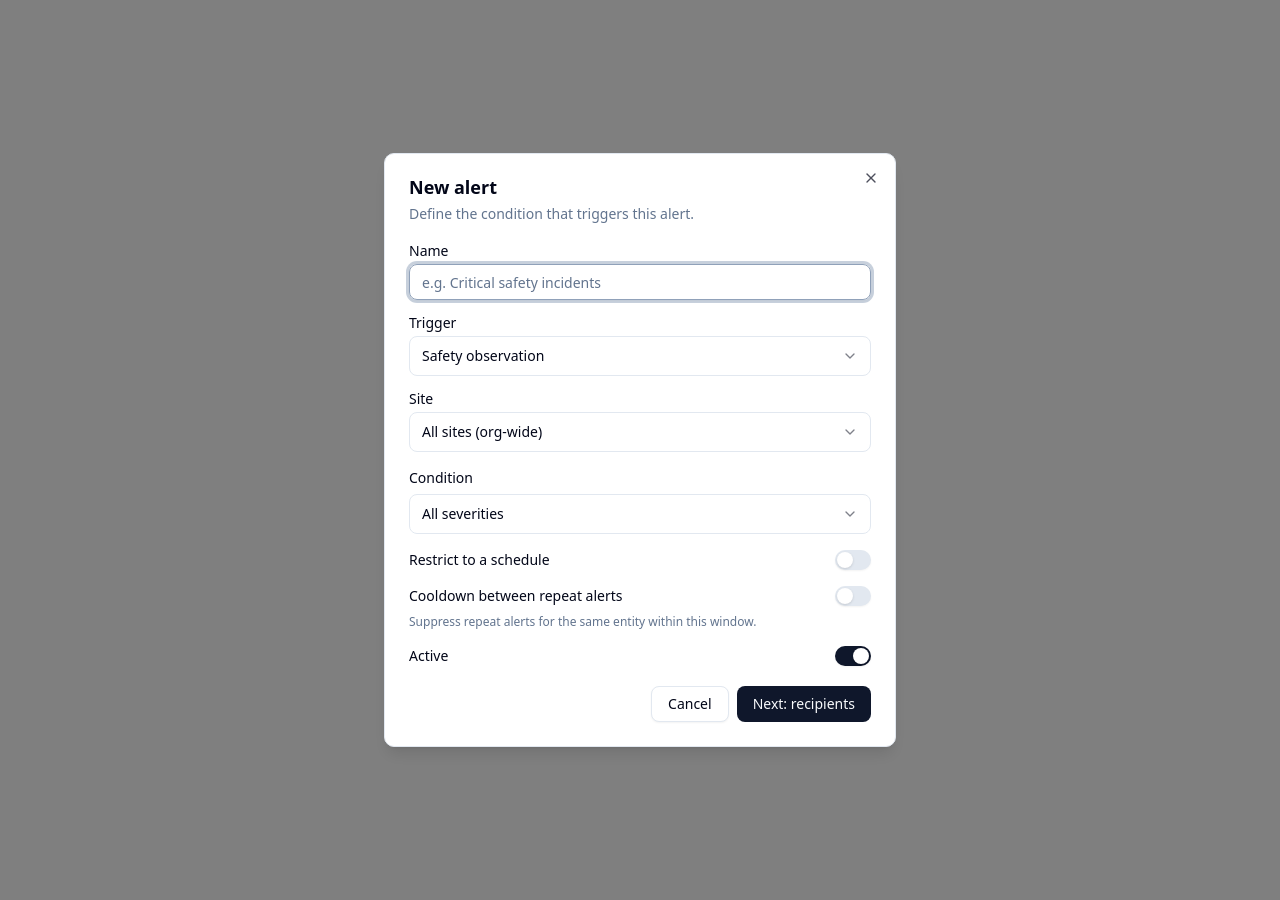
Test: PolicyDialog - create mode step flow › blocks advancing when a schedule window has no days selected
The image size is (1280, 900).
Type "Scheduled alert" into the field labelled "Name" at coordinates (640, 282), box [409,264,871,300]
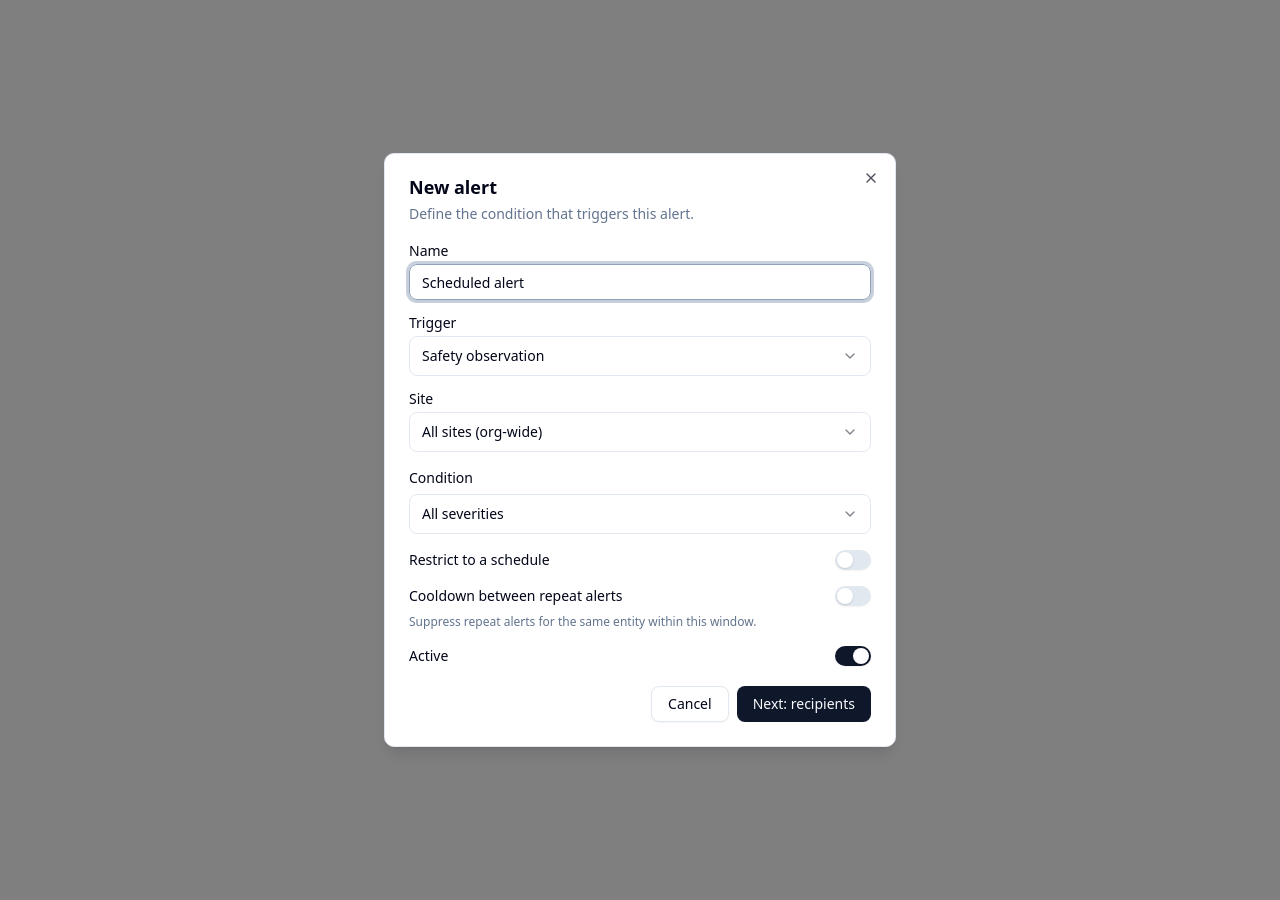
Note: Enable the schedule, then add a window (defaults to days: []).
Click the switch named "Restrict to a schedule" in the row of "Restrict to a schedule" at coordinates (853, 560), box [835,550,871,570]
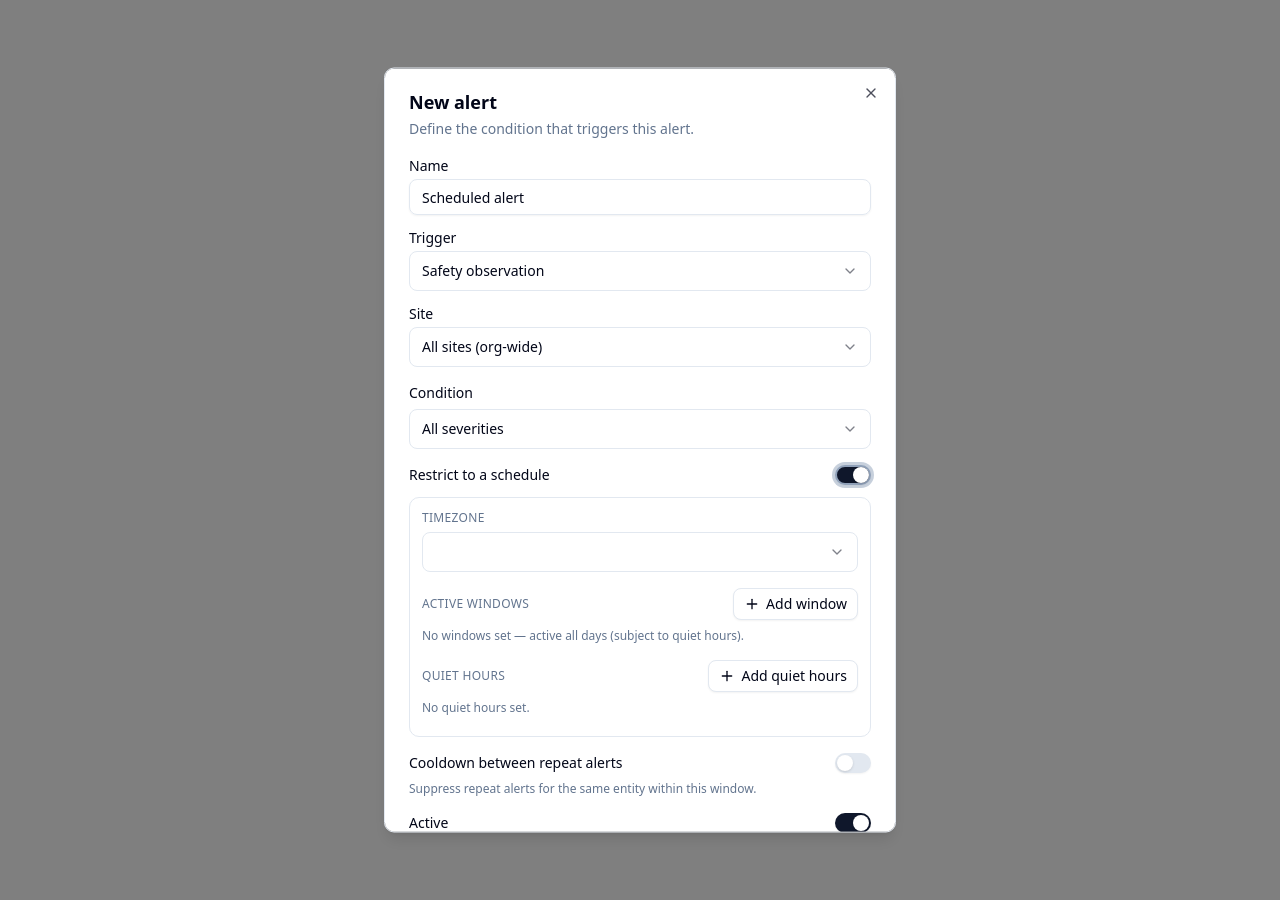
Click the button "Add window" at coordinates (796, 604), box [733,588,858,620]
(page scrolled)
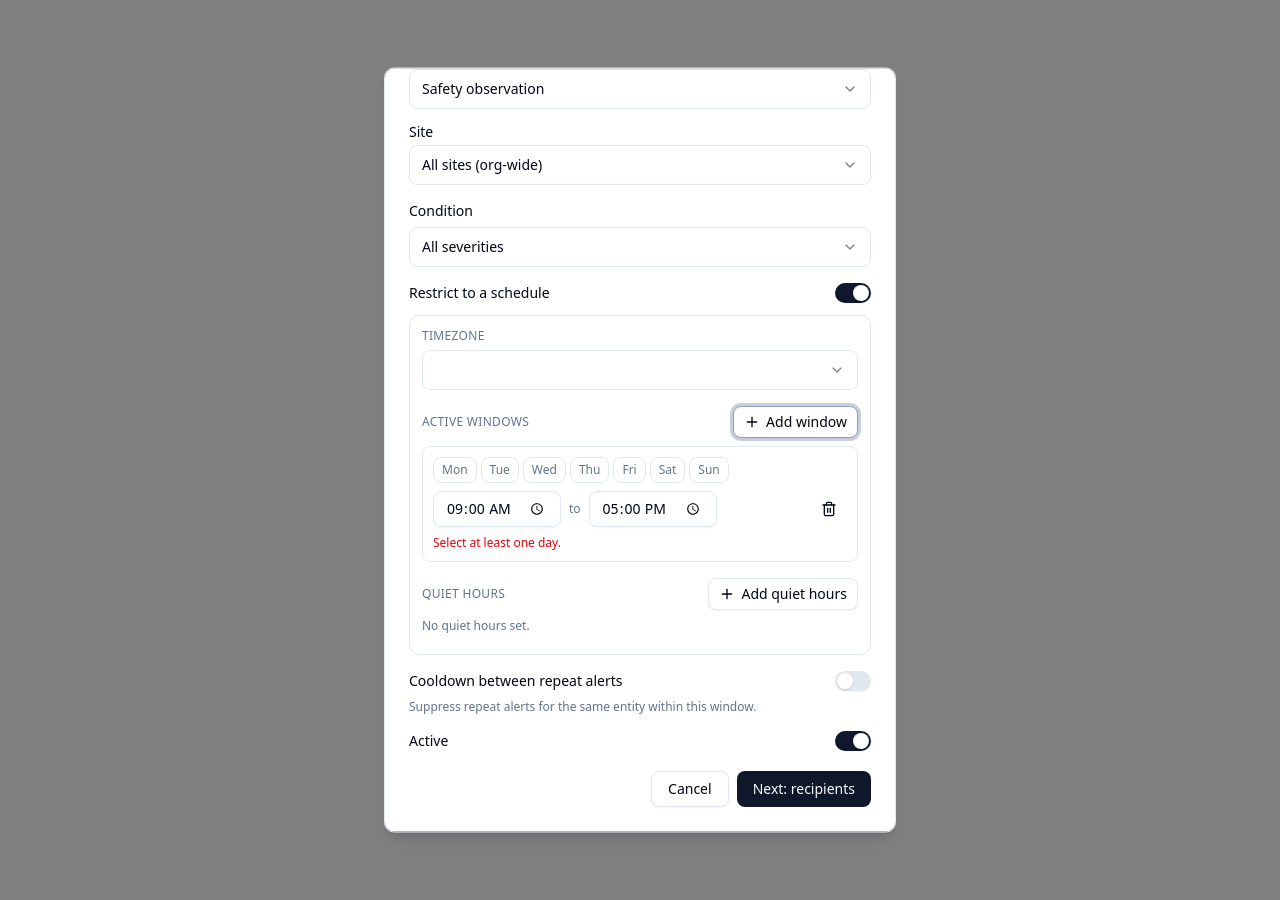
Click the button "Next: recipients" at coordinates (804, 790), box [737,772,871,808]
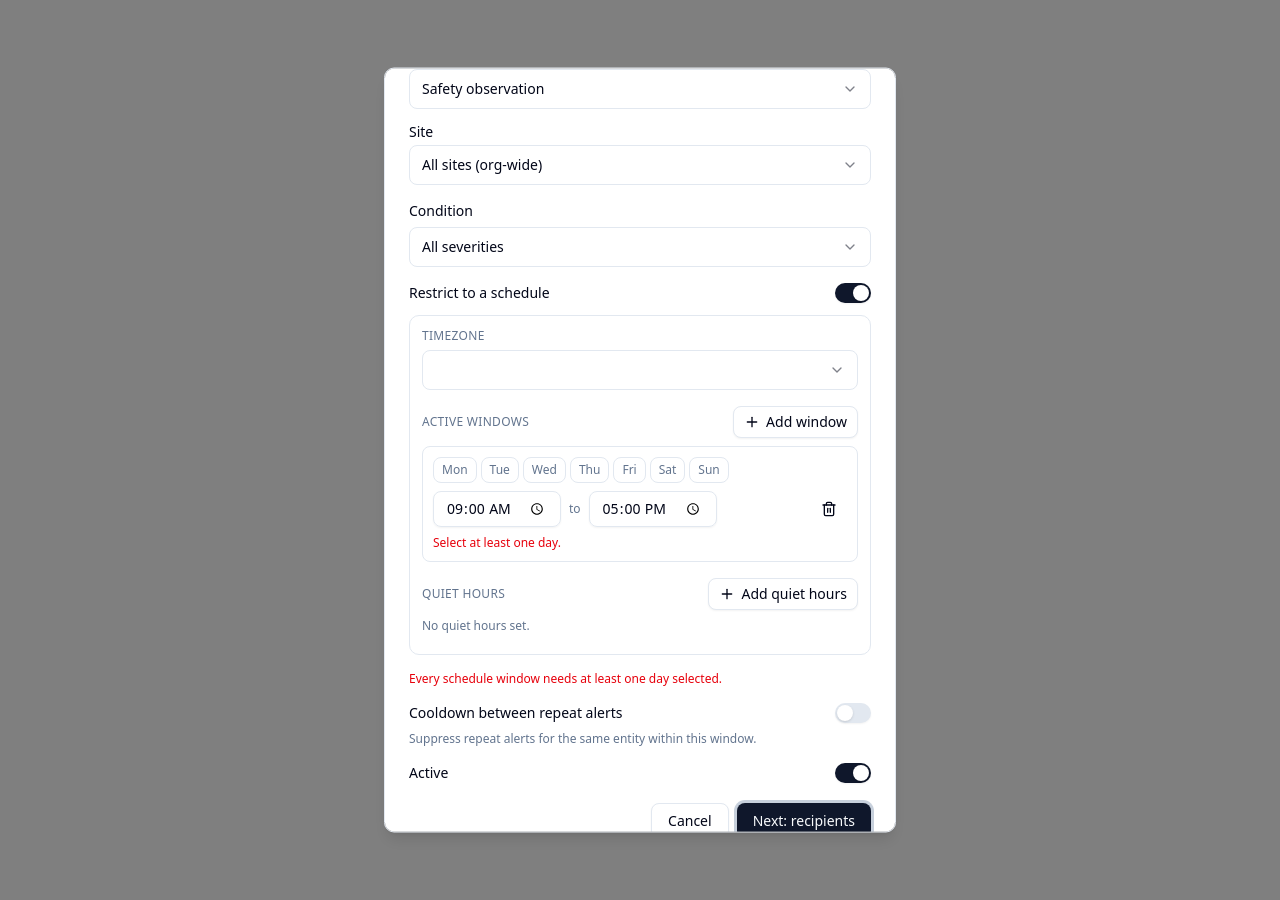
Expected: the text "Every schedule window needs at least one day selected." is shown, [409,670,722,688]
